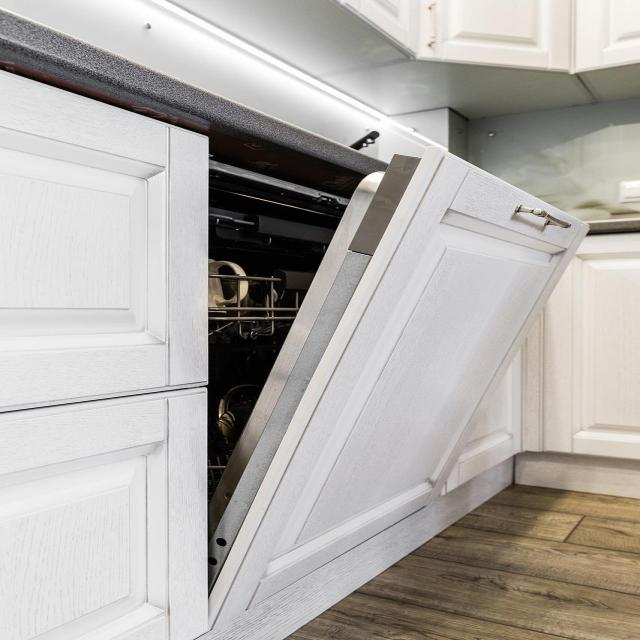dishwasher: (184, 128, 596, 640)
